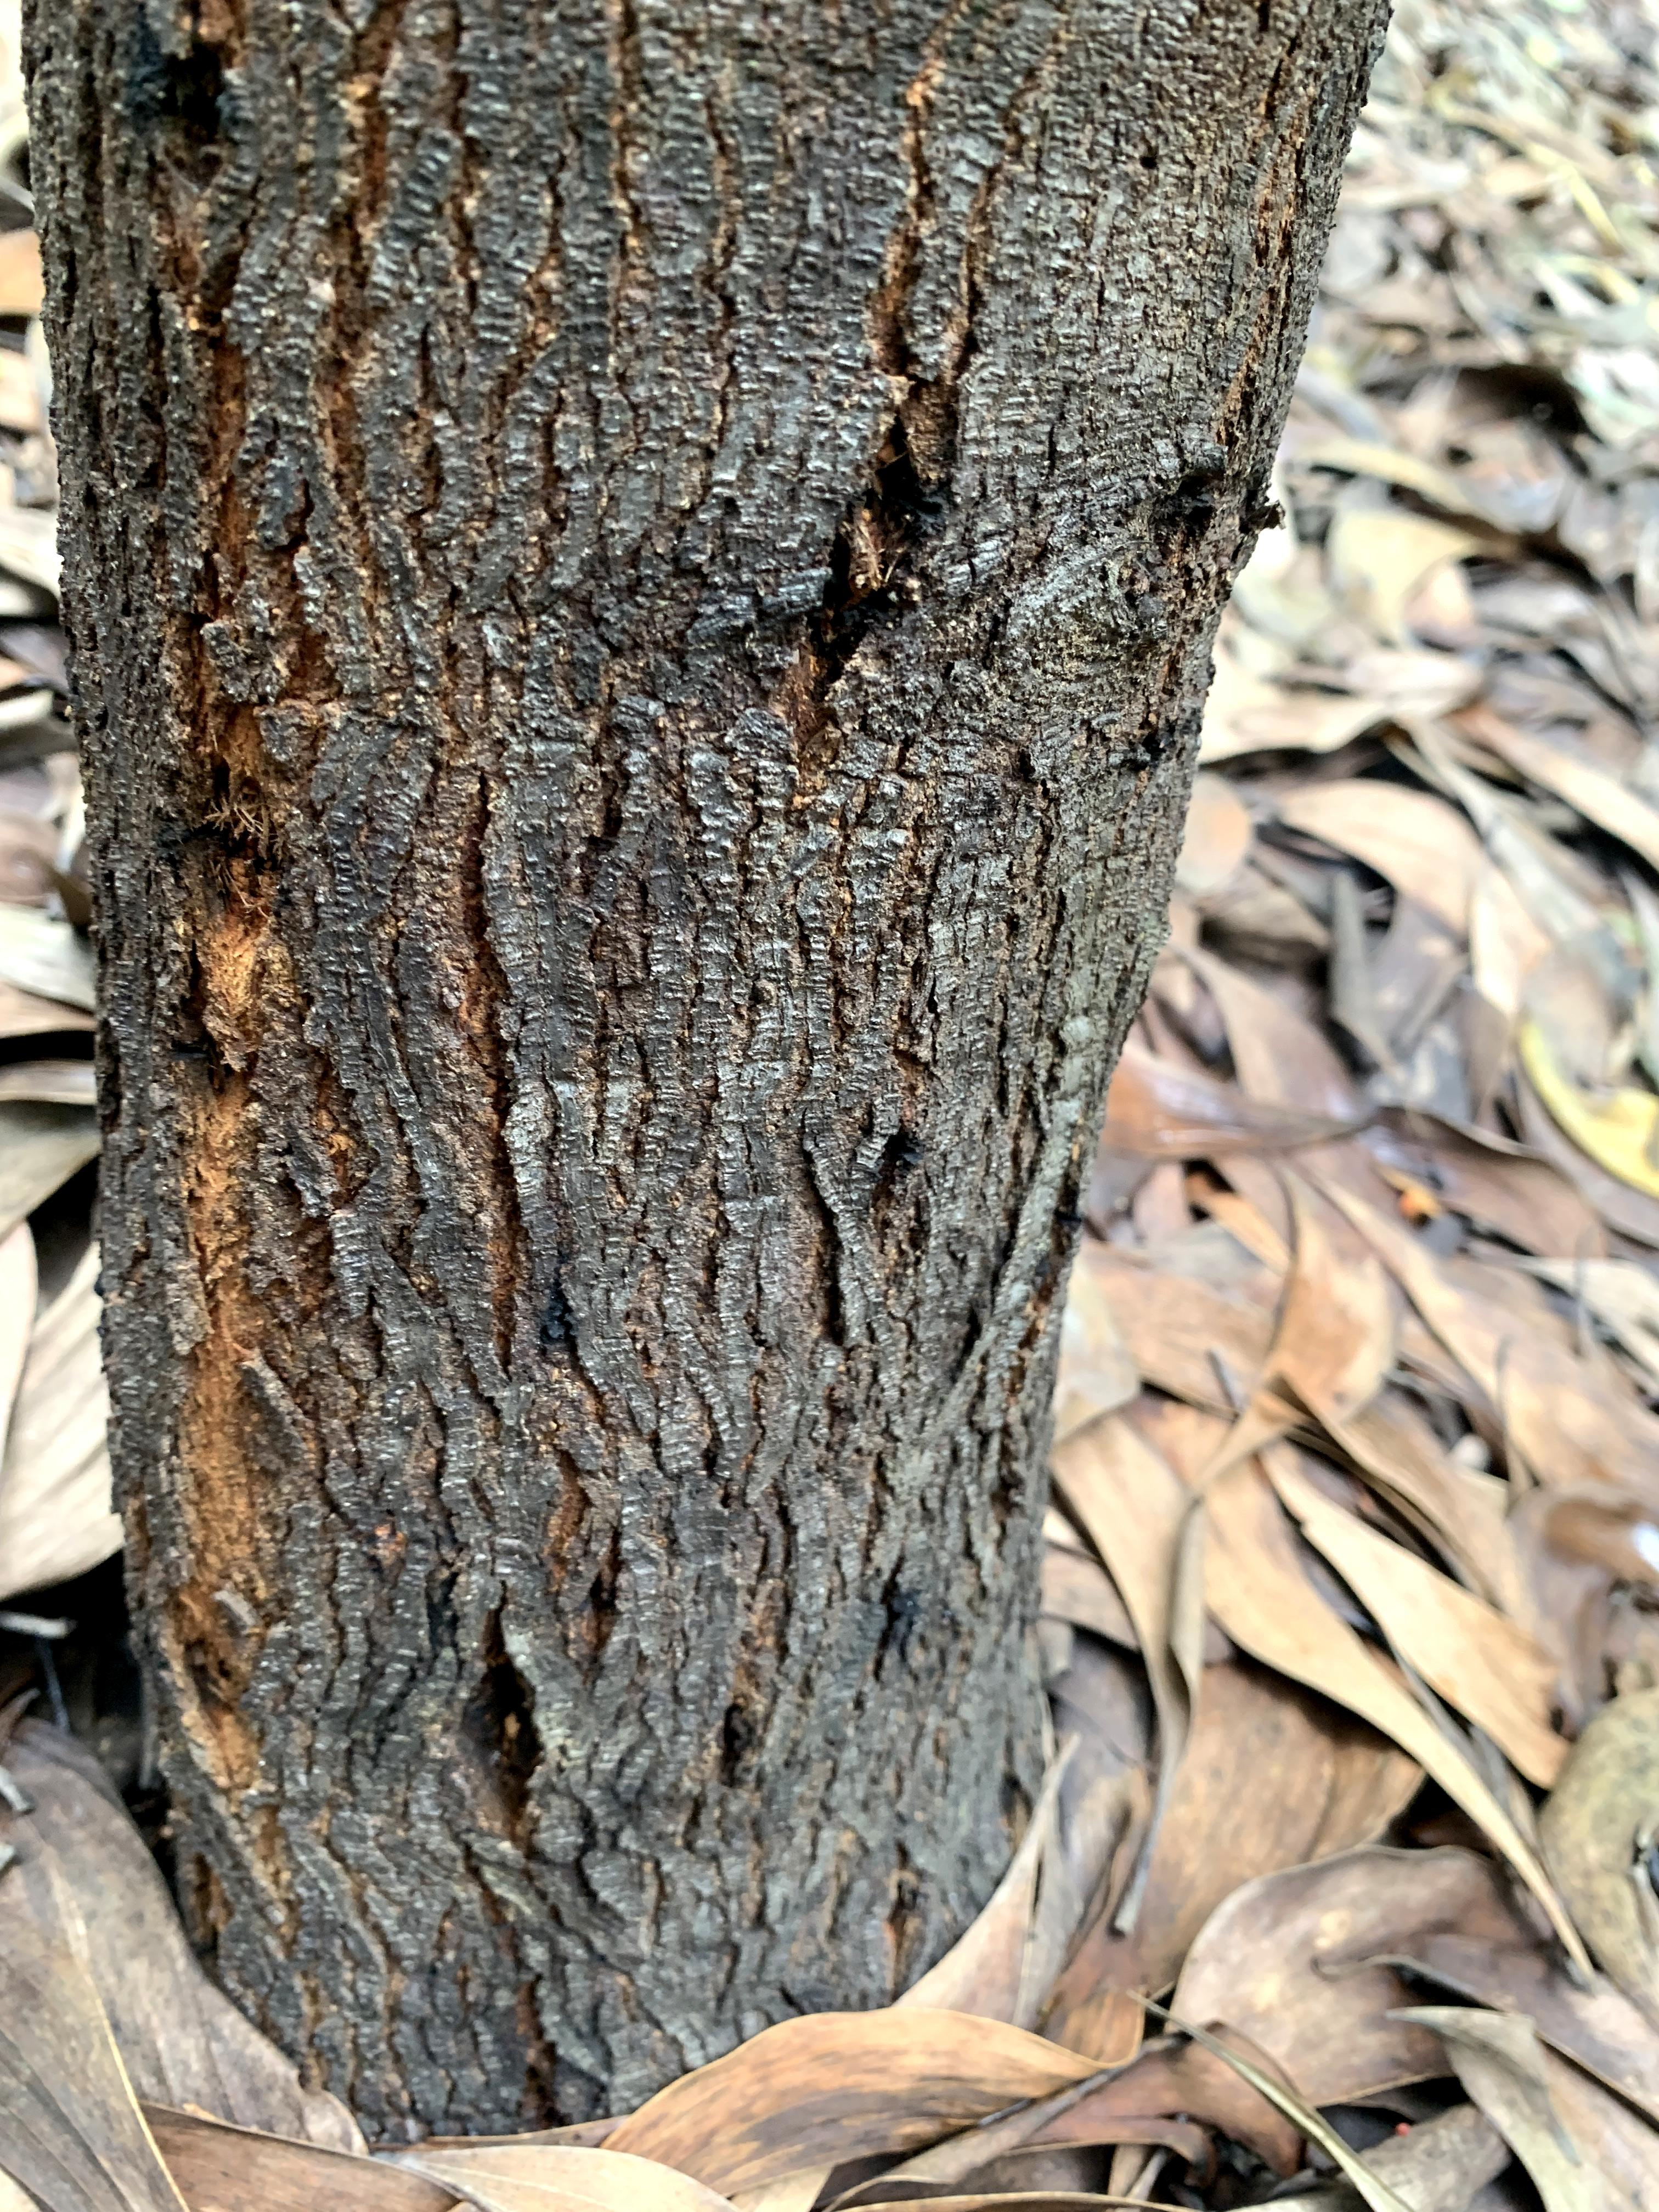Stem Deformation: (28, 2, 1197, 1998)
